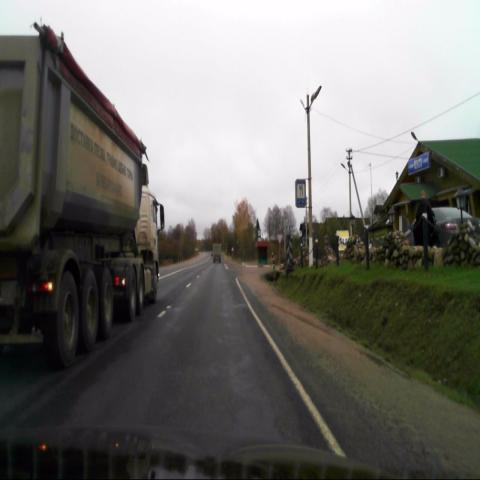7_7: (296, 179, 306, 205)
